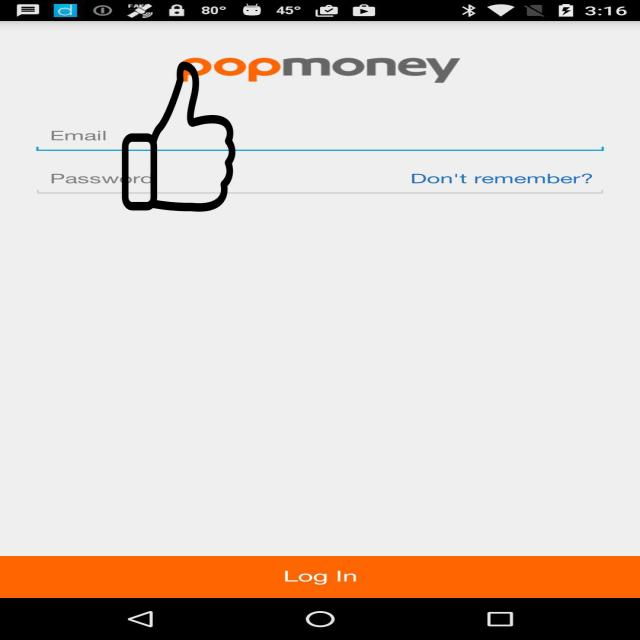privacy zuckering: (120, 62, 237, 212)
